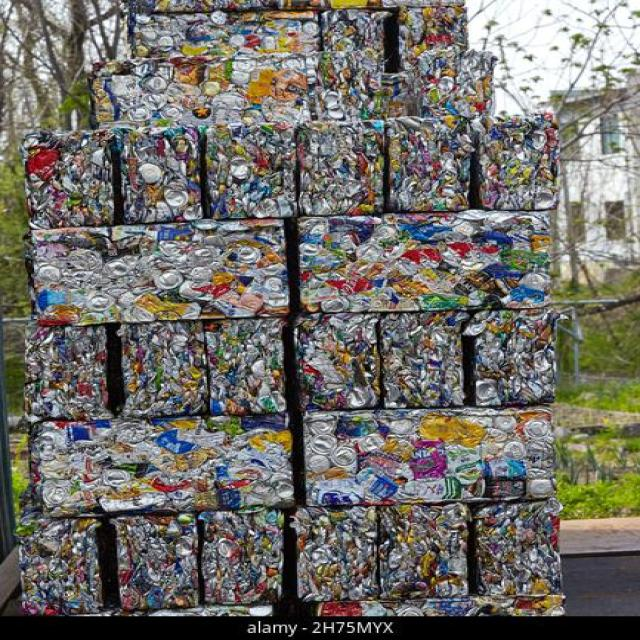trash: (26, 25, 562, 598)
